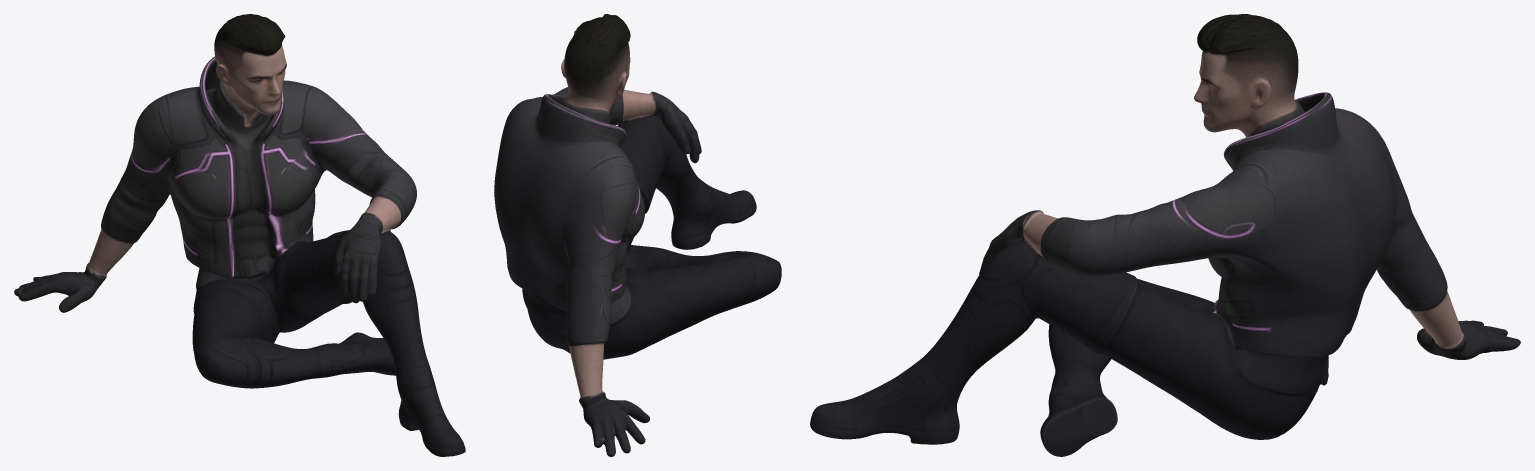
File: Meshy_AI_Neon_Sentinel_0927171108_texture.glb
3 renders of one model, left to right at view 1: azimuth 30°, elevation 25°; view 2: azimuth 150°, elevation 25°; view 3: azimuth 270°, elevation 25°, orthographic. The views are drawn at different scales.
Size of the model in its own units: 0.9074 by 1.2 by 1.9.
Materials: 1 (1 with a texture image).
